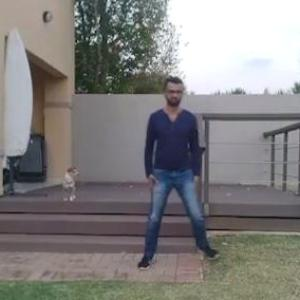follow: (142, 72, 202, 272)
